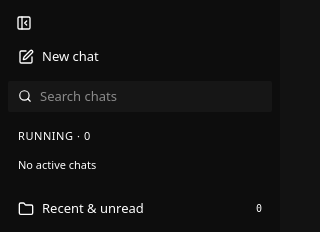
it: ignores a slow stale answer and clears on Escape
This screenshot has width=320, height=232.
Type "old" into the search field labelled "Search chats".
click(151, 96); type("old")  # box x1=40 y1=86 x2=262 y2=106
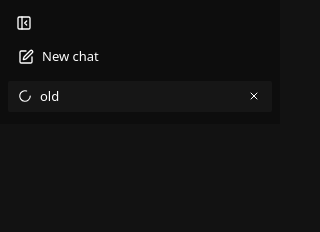
Replace the text in the search field named "Search chats" with "new" at (139,96), box x1=40 y1=86 x2=238 y2=106
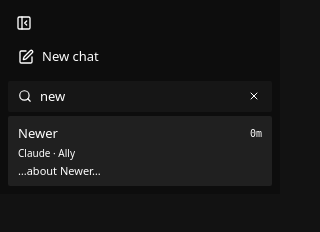
Now the option "Newer 0m Claude · Ally …about Newer…" is shown, box x1=8 y1=116 x2=272 y2=186
Press Escape in the search field named "Search chats", box x1=40 y1=86 x2=238 y2=106
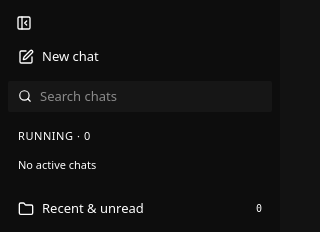
Now the search field labelled "Search chats" is empty, box x1=40 y1=86 x2=262 y2=106
Now the list is gone
